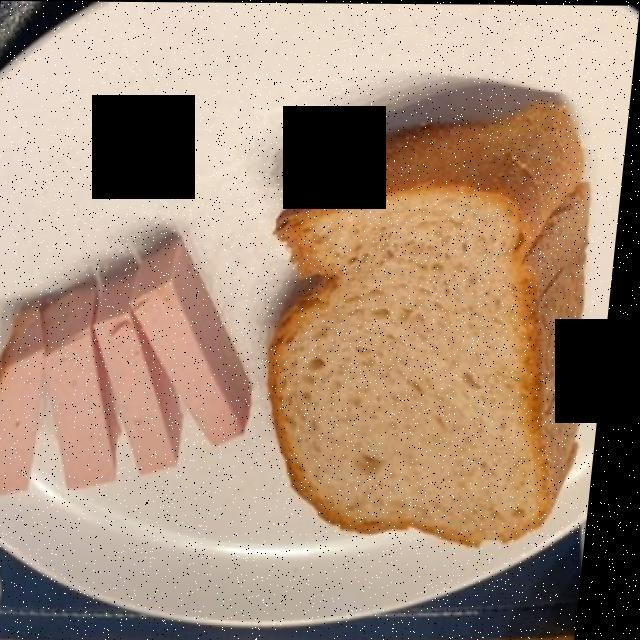bread: (278, 106, 588, 537)
meatloaf: (0, 240, 255, 489)
